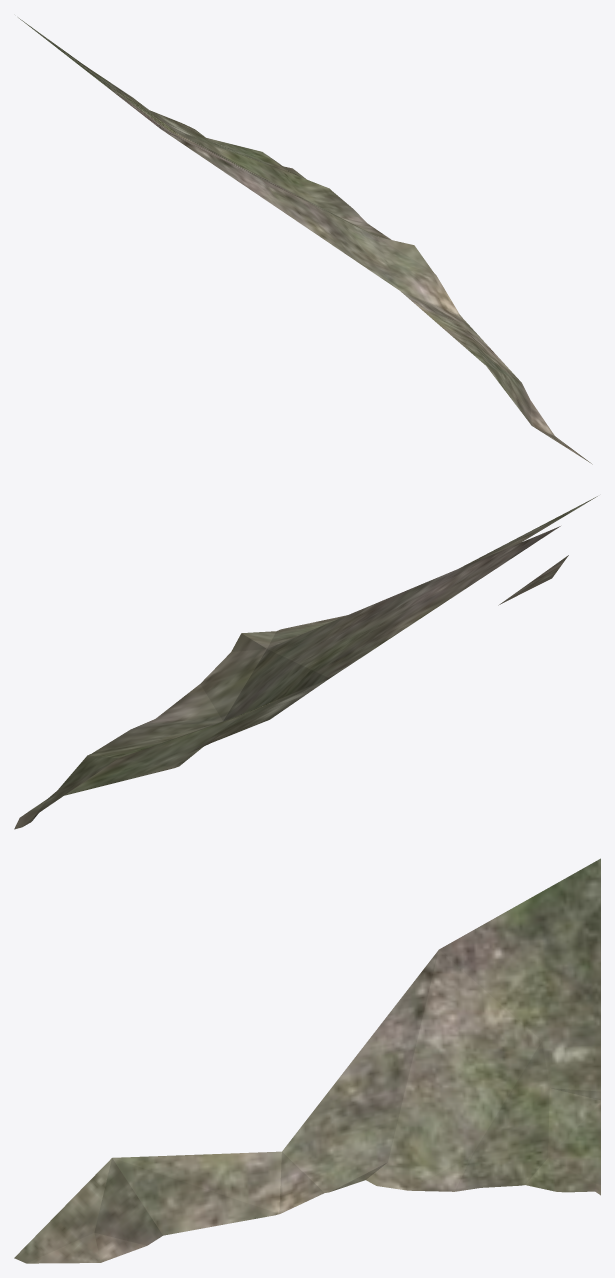
3 views of the same model, one above another, from view 1: azimuth 30°, elevation 25°; view 2: azimuth 150°, elevation 25°; view 3: azimuth 270°, elevation 25° (orthographic). The views are drawn at different scales.
Bounding box in the file's own units: 2.41 × 2.47 × 4.71.
Materials: 1 (1 with a texture image).
